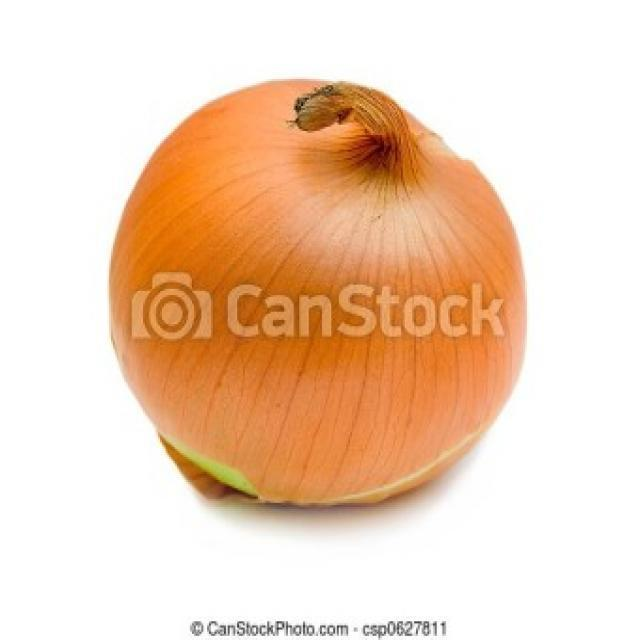onion: (107, 78, 529, 511)
